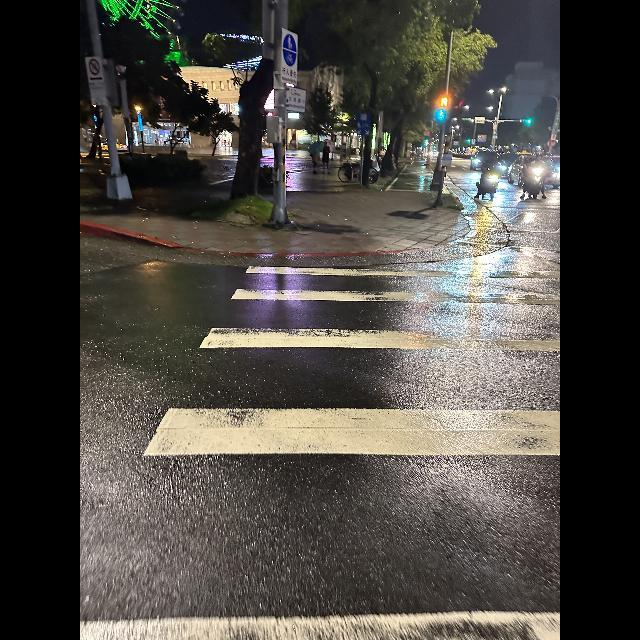sidewalk: (80, 245, 560, 640)
